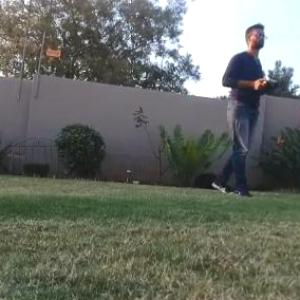follow: (207, 13, 281, 202)
